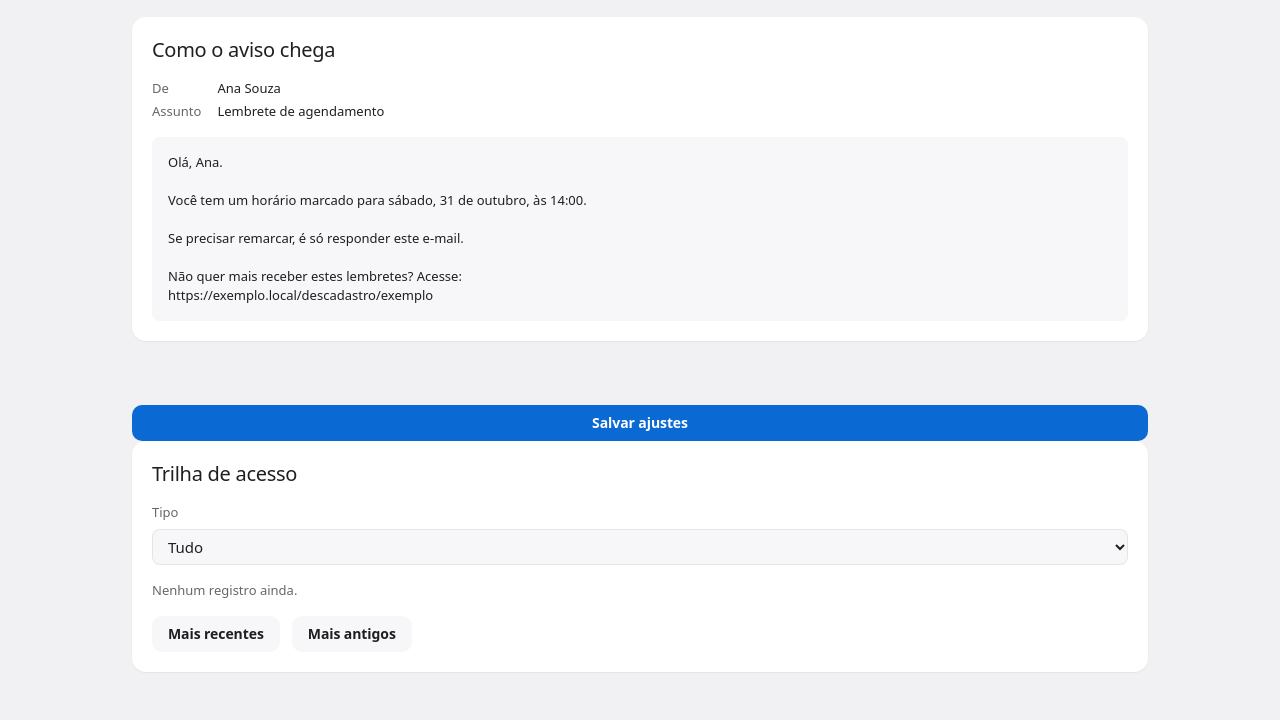
Test: AjustesPage › erro de campo desconhecido continua virando alerta
The width and height of the screenshot is (1280, 720).
(page scrolled)
Click the button "Salvar ajustes" at x=640, y=423, box top-left (132, 405), bottom-right (1148, 441)
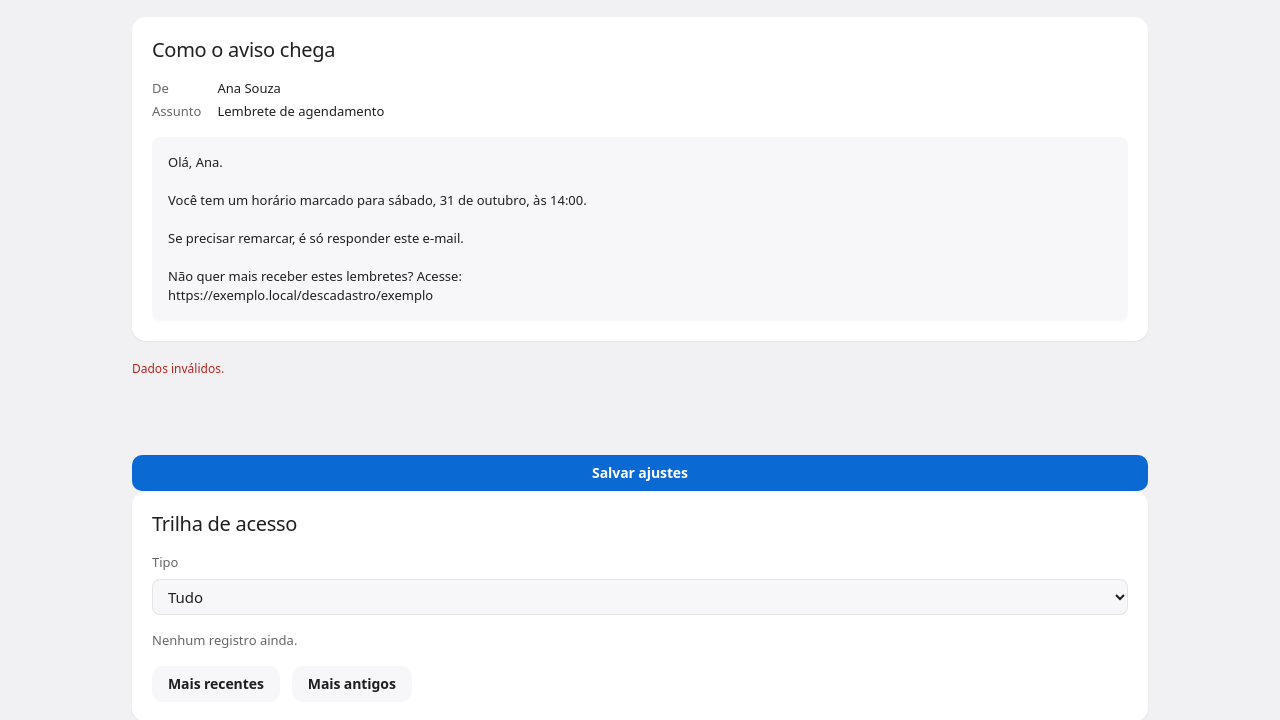
Now the message reads "Dados inválidos.", box top-left (132, 360), bottom-right (224, 377)
